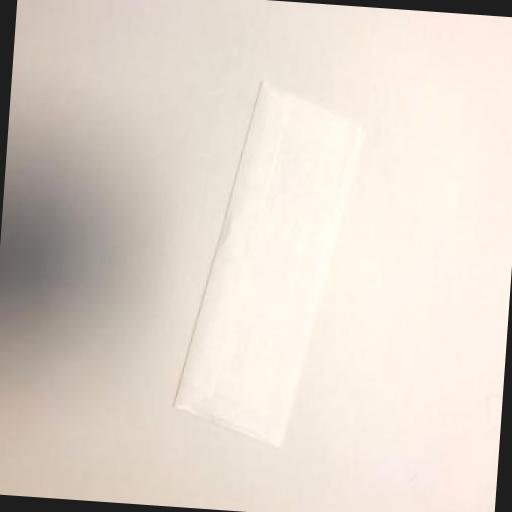paper: (172, 76, 370, 456)
